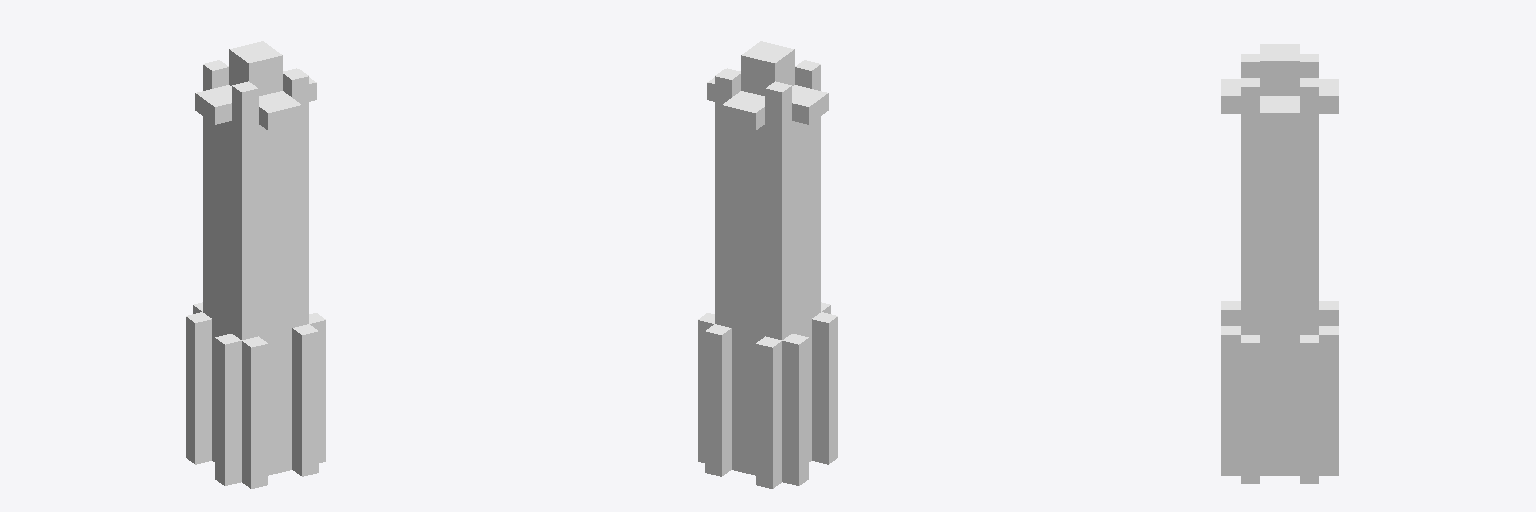
Rendered from ShootUltraSpeed.obj.
3 renders of one model, left to right at view 1: azimuth 30°, elevation 25°; view 2: azimuth 150°, elevation 25°; view 3: azimuth 270°, elevation 25°, orthographic.
Visible parts, largest first — view 1: ShootUltraSpeed; view 2: ShootUltraSpeed; view 3: ShootUltraSpeed.
Part boxes in pixels (left/top/right/bottom): ShootUltraSpeed: left=186, top=41, right=325, bottom=488; ShootUltraSpeed: left=698, top=41, right=837, bottom=488; ShootUltraSpeed: left=1221, top=44, right=1338, bottom=483.
Bounding box in the file's own units: 6 × 23 × 6.